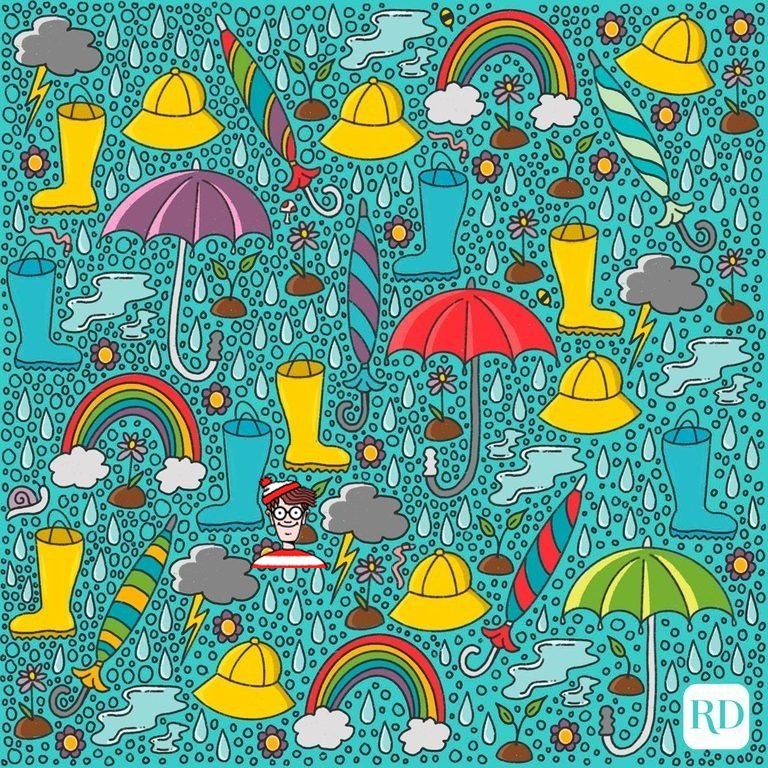waldo: (249, 475, 328, 568)
